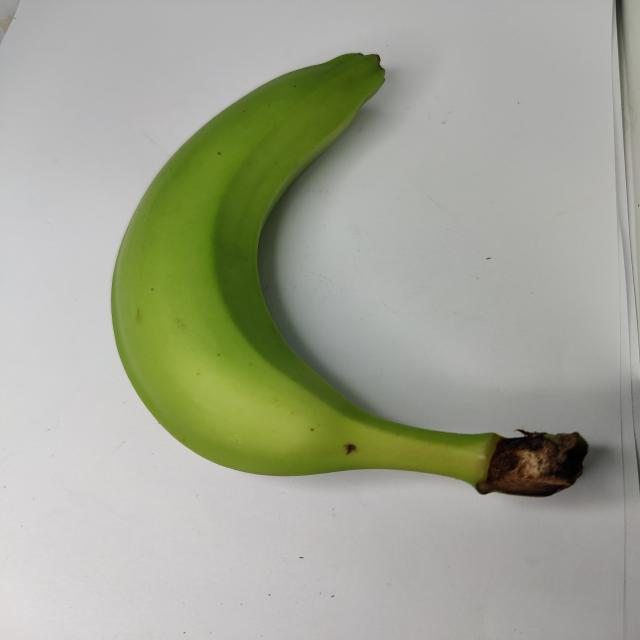raw: (81, 29, 607, 538)
